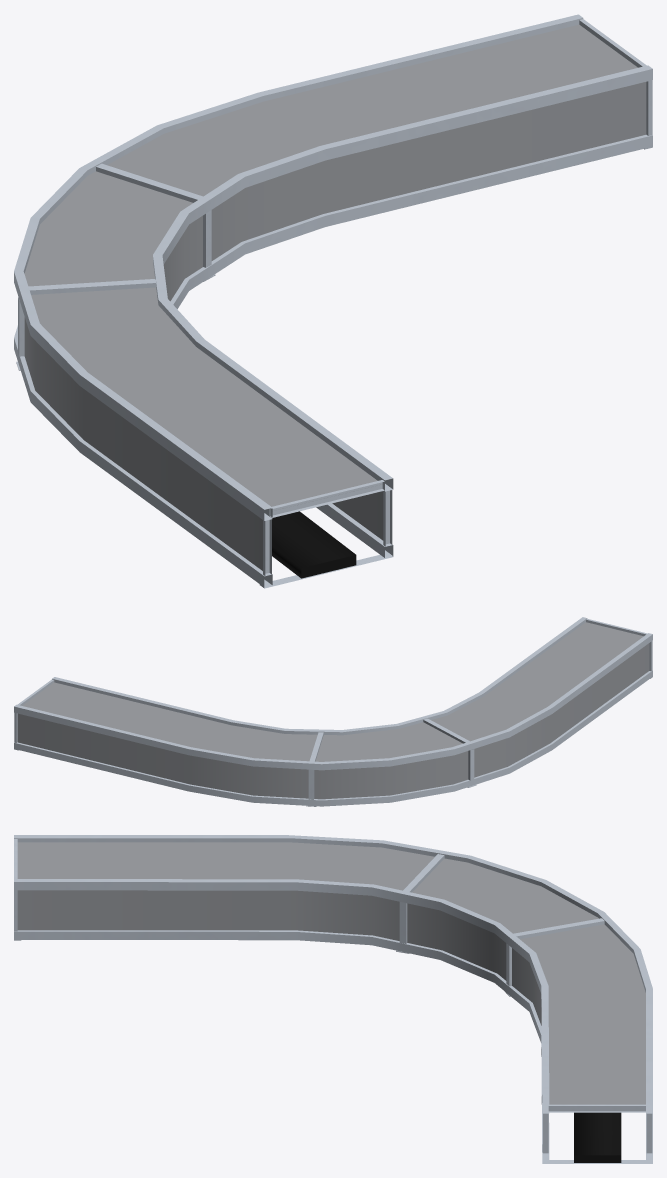
The model's file is SM05_Industrial_CableTray_01_Corner_01.fbx.
3 renders of one model, top to bottom at view 1: azimuth 30°, elevation 25°; view 2: azimuth 150°, elevation 25°; view 3: azimuth 270°, elevation 25°, orthographic. The views are drawn at different scales.
Visible parts, largest first — view 1: SM05_Industrial_CableTray_01_Corner_01; view 2: SM05_Industrial_CableTray_01_Corner_01; view 3: SM05_Industrial_CableTray_01_Corner_01.
Boxes of the visible parts, left/top/right/bottom form: SM05_Industrial_CableTray_01_Corner_01: left=14, top=14, right=652, bottom=588; SM05_Industrial_CableTray_01_Corner_01: left=14, top=617, right=652, bottom=806; SM05_Industrial_CableTray_01_Corner_01: left=14, top=835, right=652, bottom=1163.
Bounding box in the file's own units: 3.75 × 0.3796 × 3.75.
